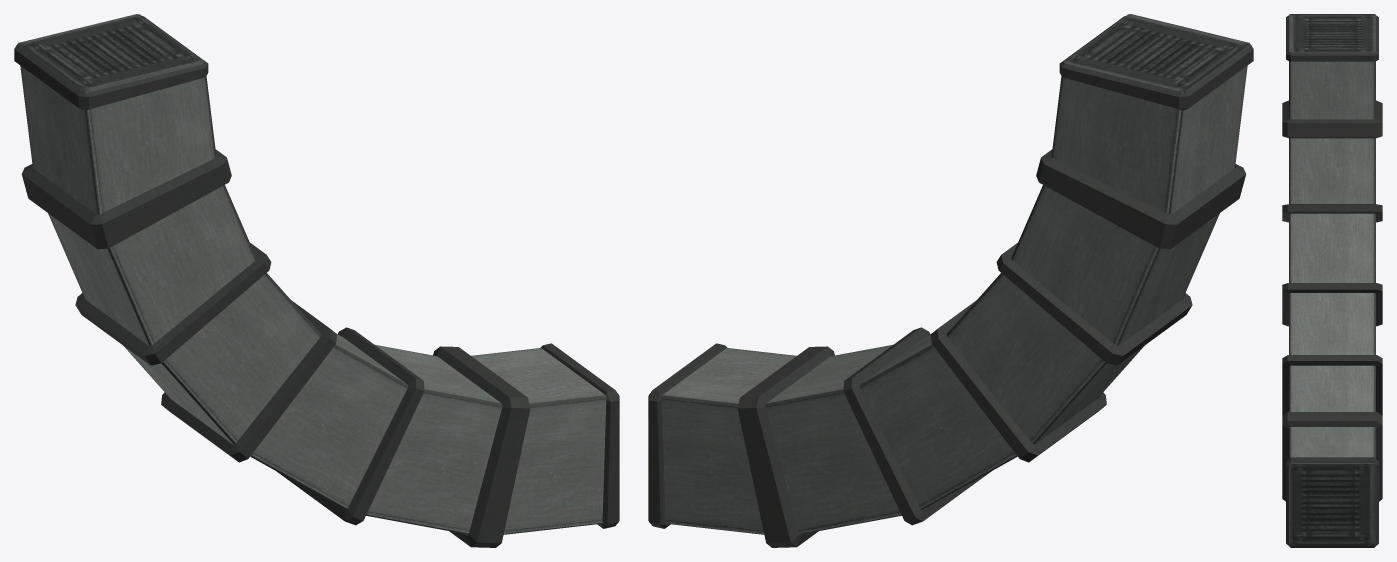
Rendered from vent_90.FBX.
The picture shows the model from 3 angles, left to right: view 1: azimuth 30°, elevation 25°; view 2: azimuth 150°, elevation 25°; view 3: azimuth 270°, elevation 25°; orthographic projection. The views are drawn at different scales.
Visible parts, largest first — view 1: vent_90; view 2: vent_90; view 3: vent_90.
Part boxes in pixels (x1,y1,x2,y2): vent_90: [14, 14, 619, 547]; vent_90: [648, 14, 1253, 547]; vent_90: [1282, 14, 1382, 547].
Bounding box in the file's own units: 4.57 × 1.14 × 4.57.
